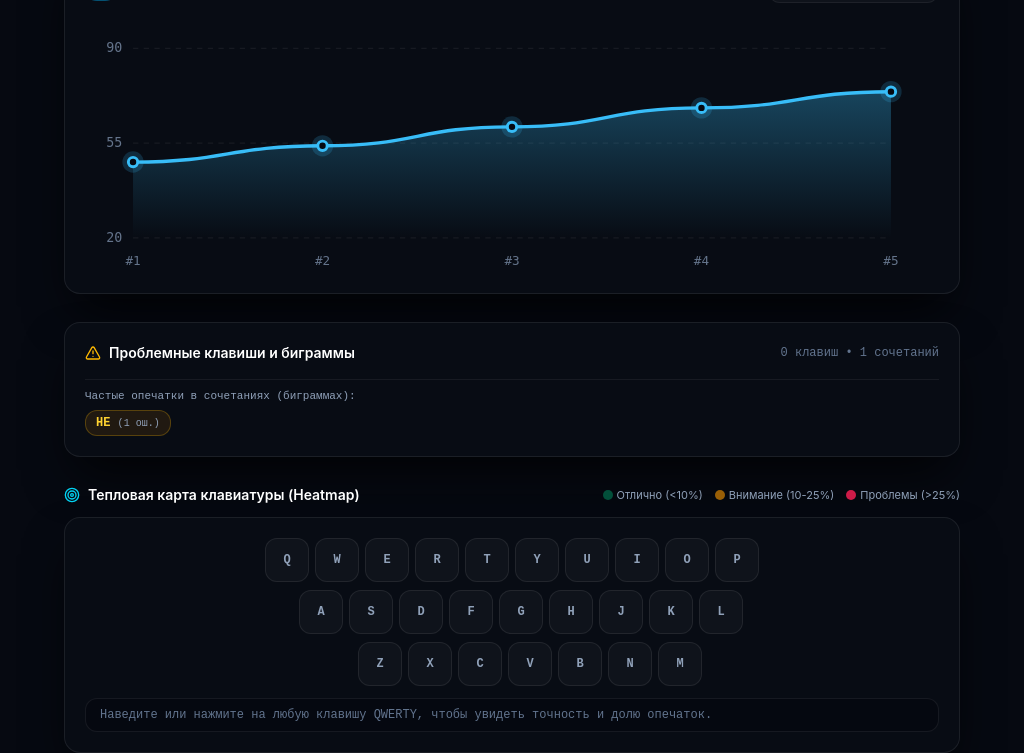
Test: Design System (shadcn/ui) & Scalable Music Catalog Tests › StatsView: renders Interactive QWERTY Heatmap and updates tooltip on key click
The image size is (1024, 753).
(page scrolled)
Expected: the element with test id "interactive-qwerty-heatmap" is shown, [64,517,960,752]
Click the button with test id "heatmap-key-r".
click(437, 560)  # box [415,538,459,582]
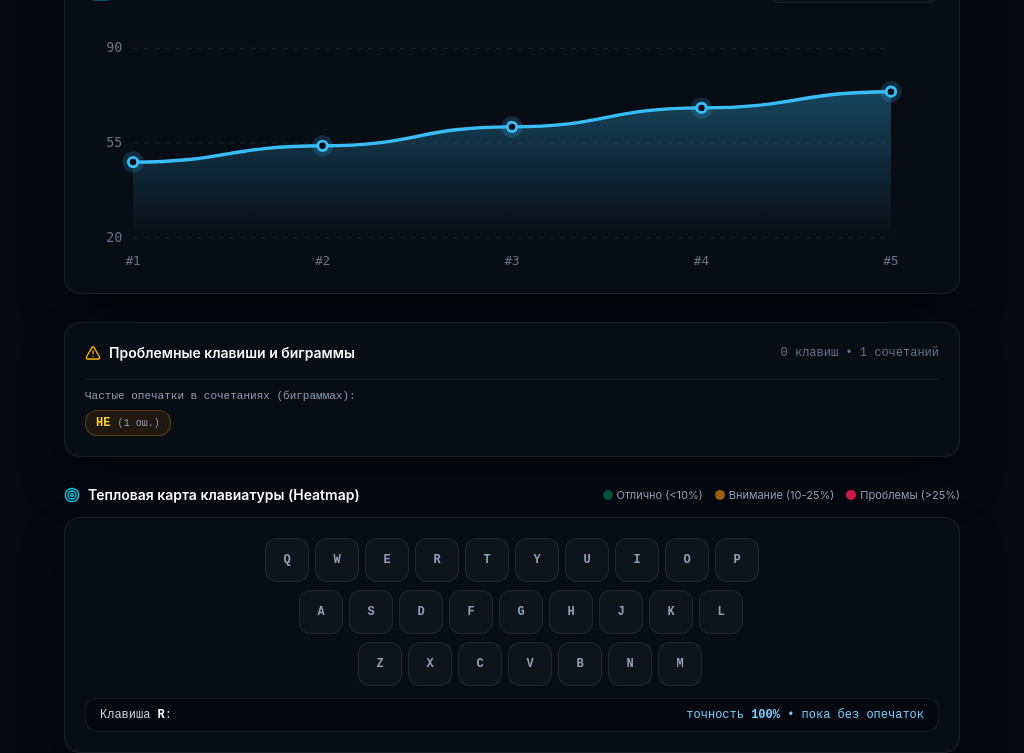
Expected: the element with test id "heatmap-key-tooltip" shows "Клавиша R", [85,698,939,732]
